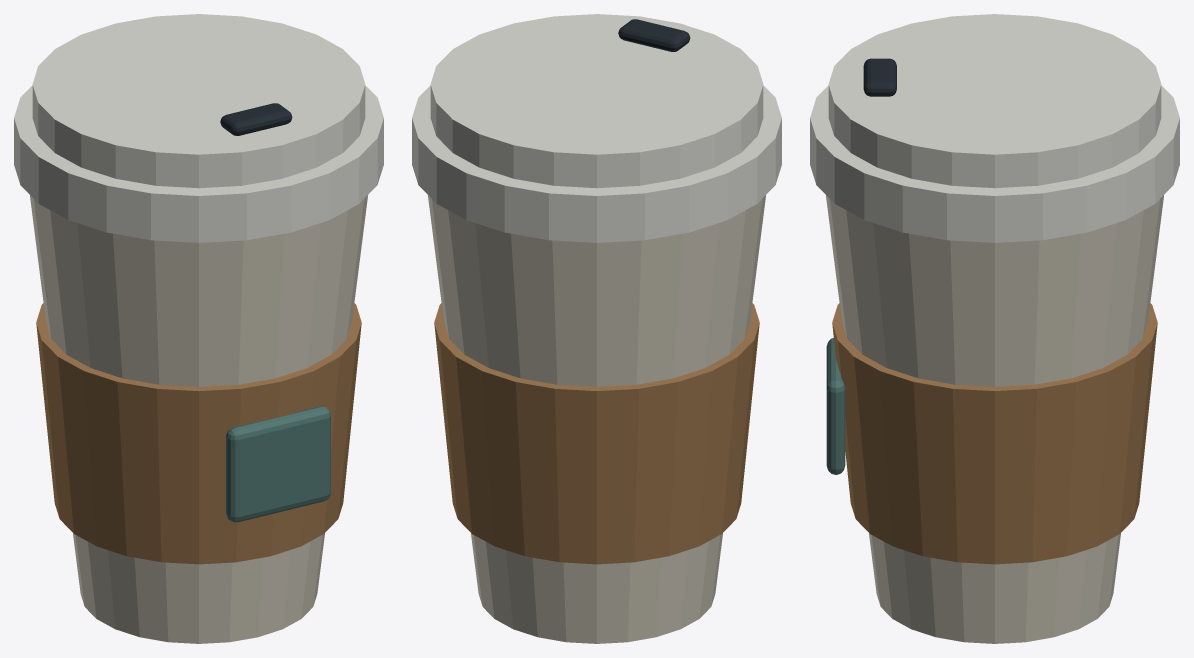
File: coffee.glb
3 renders of one model, left to right at view 1: azimuth 30°, elevation 25°; view 2: azimuth 150°, elevation 25°; view 3: azimuth 270°, elevation 25°, orthographic.
Parts seen in each view (by area): view 1: coffee; view 2: coffee; view 3: coffee.
Boxes of the visible parts, x1,y1,x2,y2 form: coffee: (14,14,383,643); coffee: (412,14,781,643); coffee: (810,14,1179,643).
Bounding box in the file's own units: 0.1 × 0.156 × 0.1.
